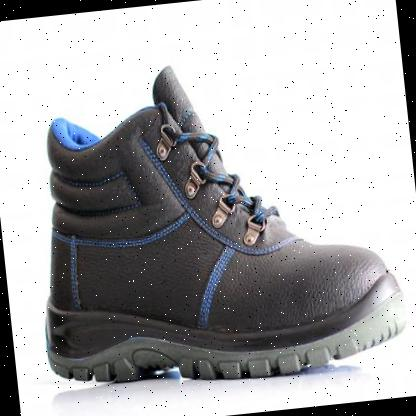bota: (12, 39, 413, 399)
